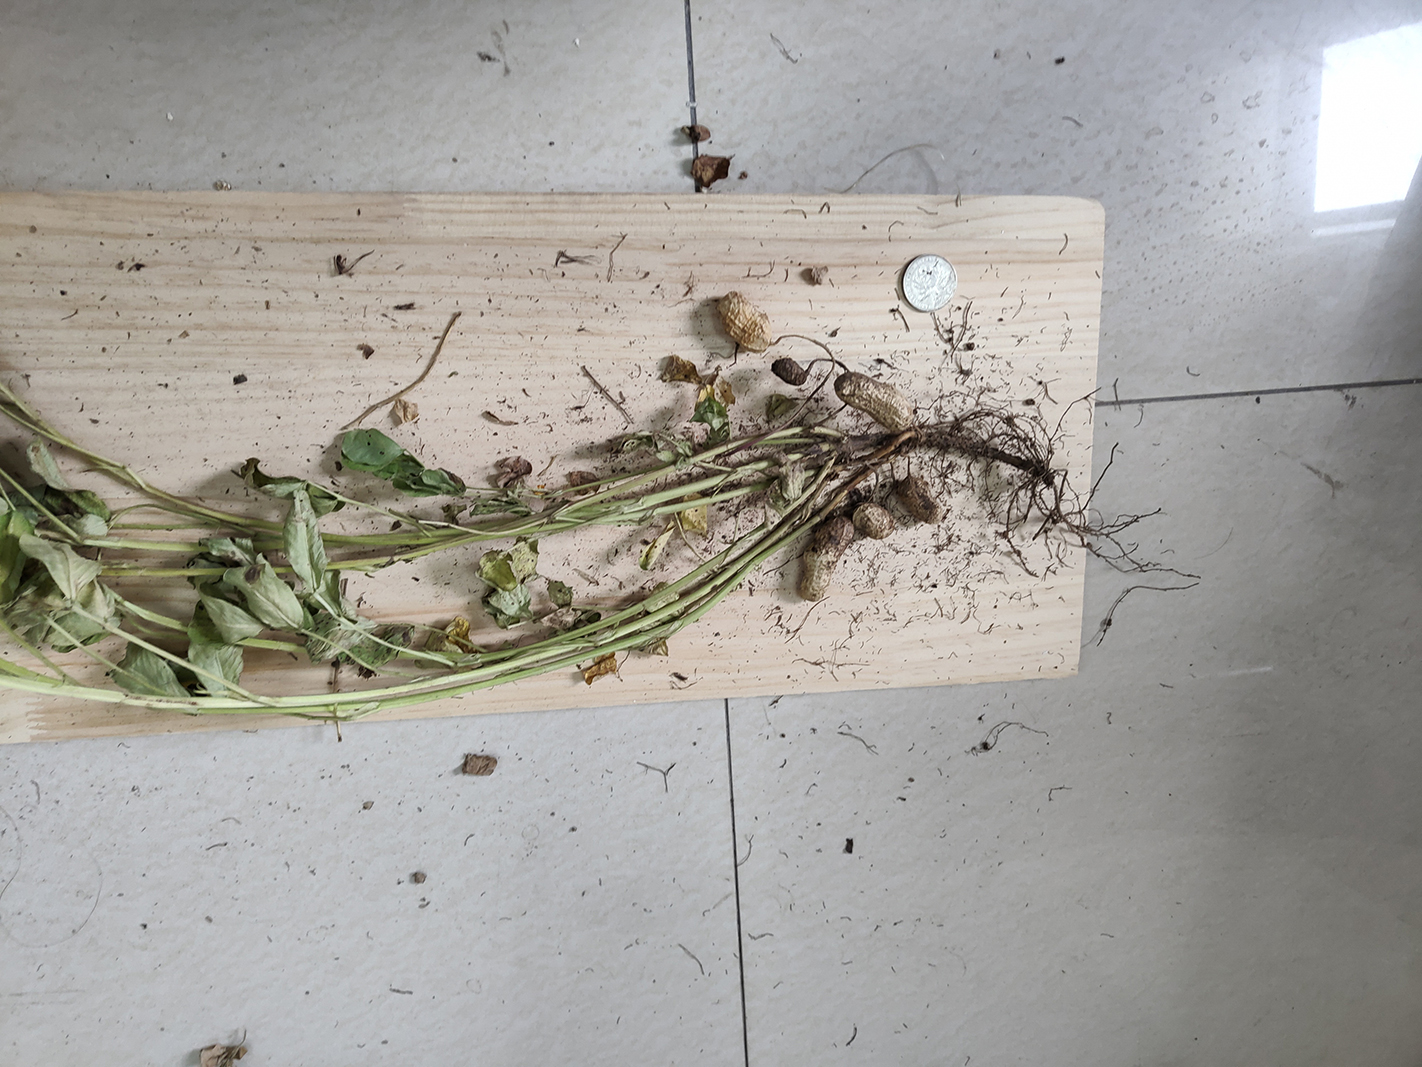h: (798, 514, 855, 602), (834, 371, 913, 432), (718, 290, 772, 354), (852, 501, 894, 538)
l: (900, 476, 941, 525), (771, 358, 807, 386)
